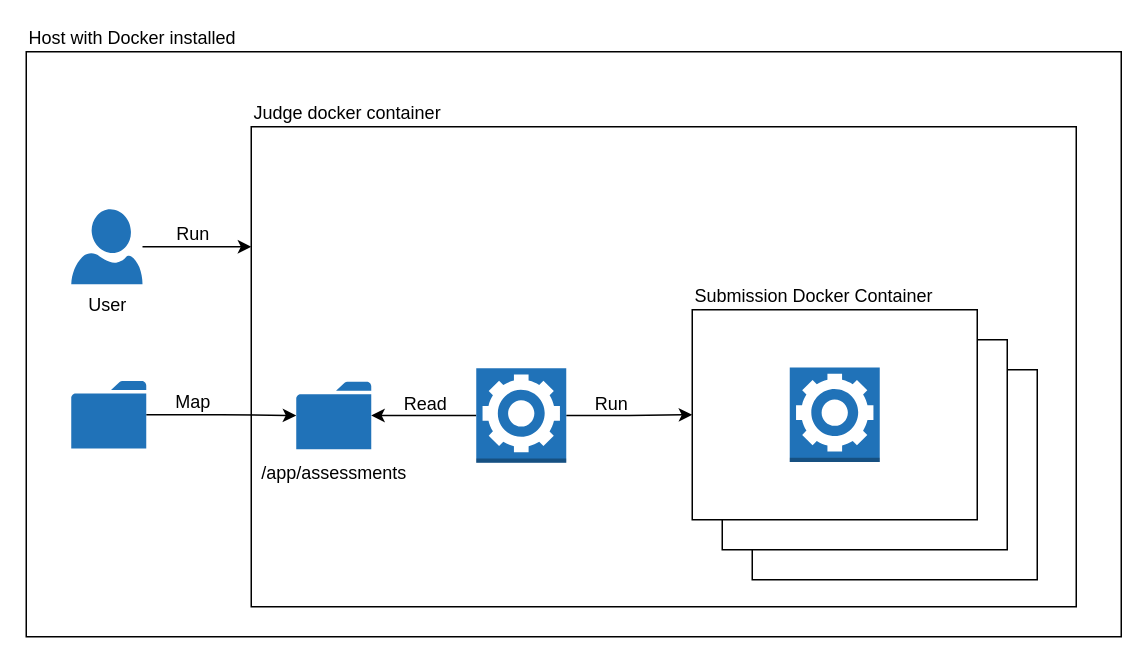
This 1148x663 diagram has some shape labels left out. The box of each missing label's shape, as (x1, y1, x2, y2) in pixels:
assessments: (70, 380, 146, 448)
Judge: (475, 367, 566, 463)
Submission: (788, 366, 880, 462)
